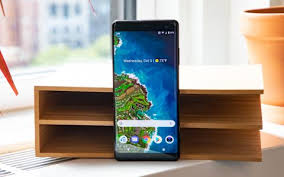sony: (109, 14, 181, 167)
